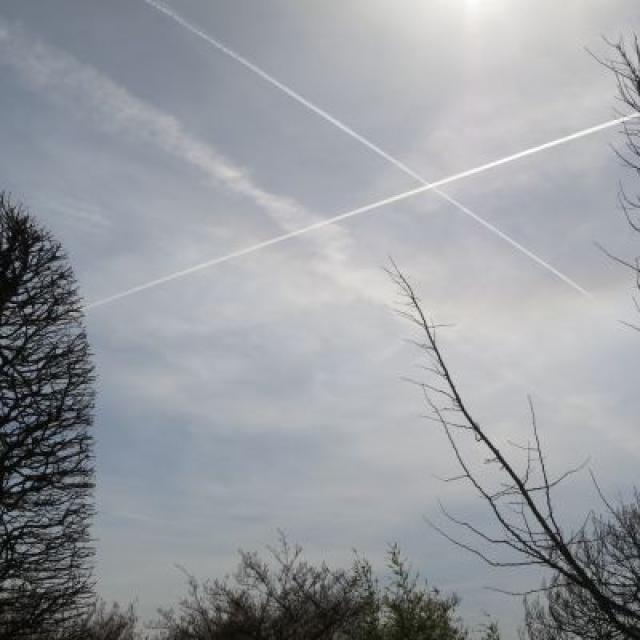Ct: (52, 3, 626, 283)
